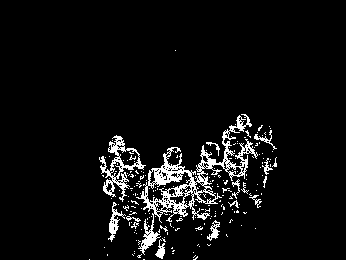person: (139, 144, 196, 260), (189, 141, 241, 244), (99, 132, 146, 243), (238, 123, 279, 212), (219, 113, 254, 203)
